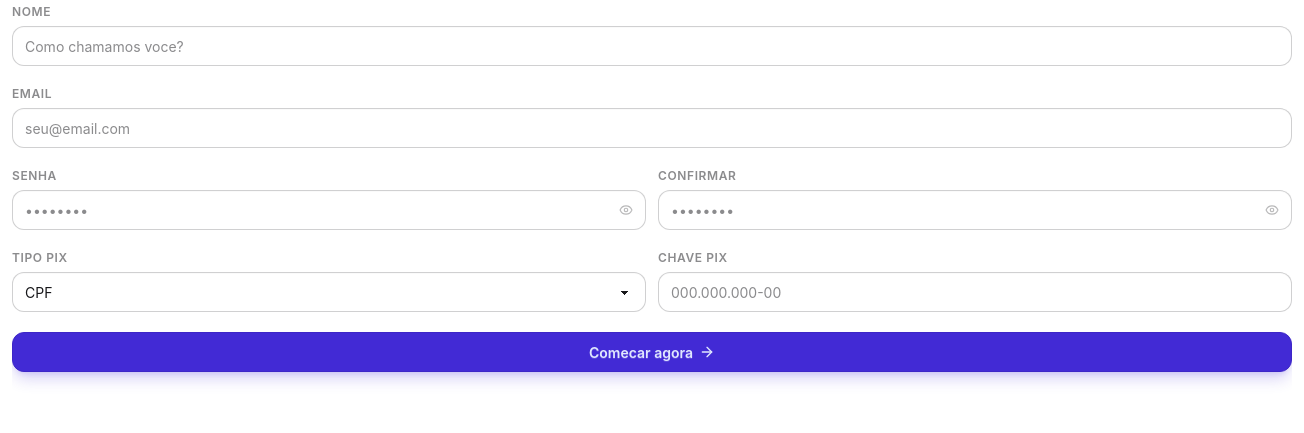
Test case: Register › Mock de registro › deve mostrar erro quando registro retorna falha
Type "João Silva" into the field with placeholder "Como chamamos voce?". click: point(652, 46)
box: [12,26,1292,66]
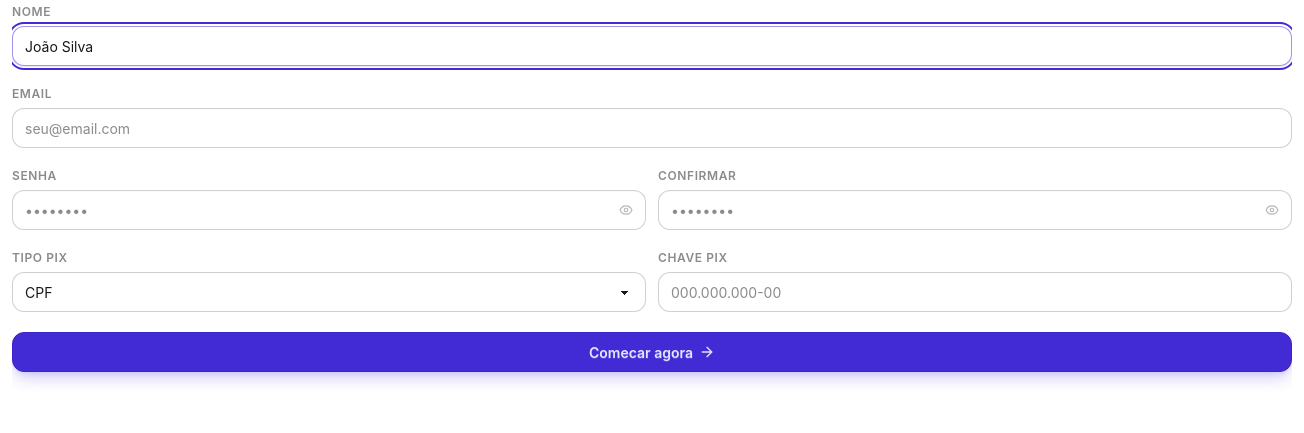
Type "ja-existe@email.com" into the field with placeholder "seu@email.com". click: point(652, 128)
box: [12,108,1292,148]
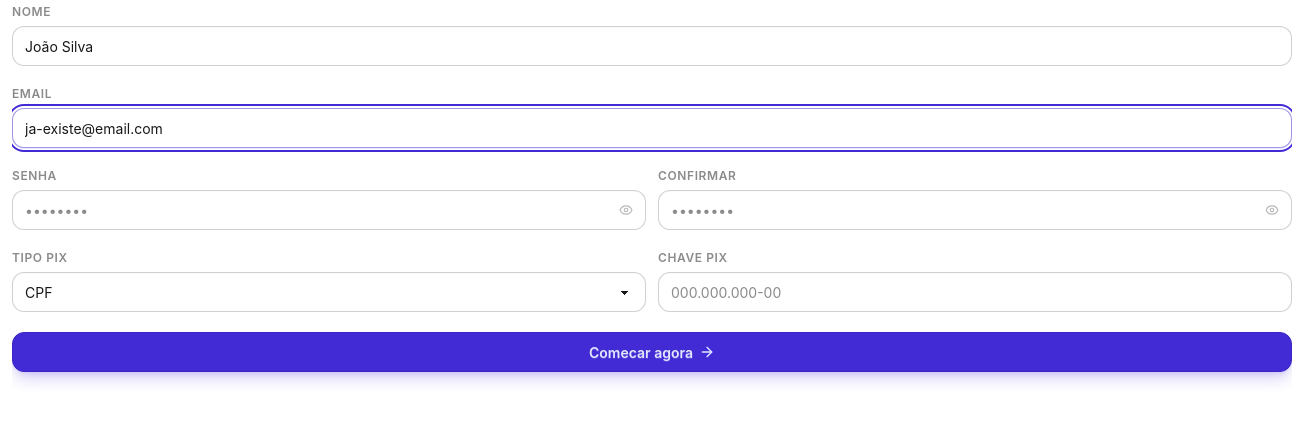
Type "senha1234" into the password field labelled "Senha". click: point(329, 210)
box: [12,190,646,230]
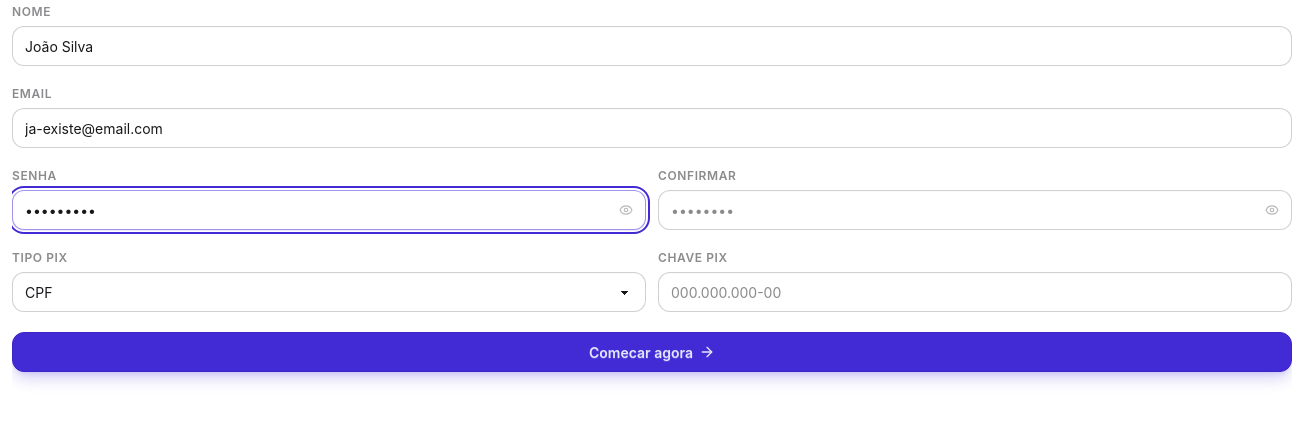
Type "senha1234" into the password field labelled "Confirmar". click: point(975, 210)
box: [658,190,1292,230]
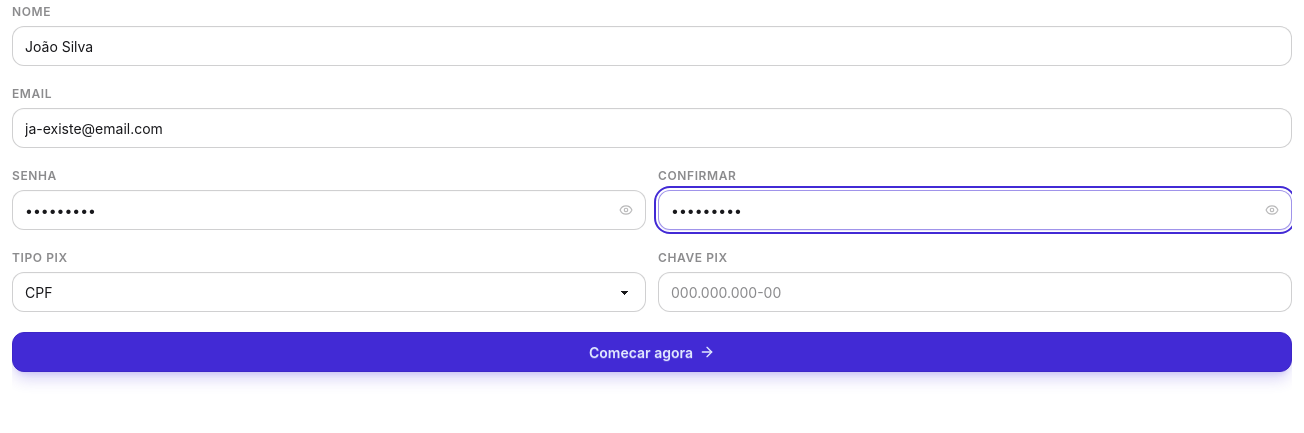
Type "123.456.789-00" into the field with placeholder "000.000.000-00". click: point(975, 292)
box: [658,272,1292,312]
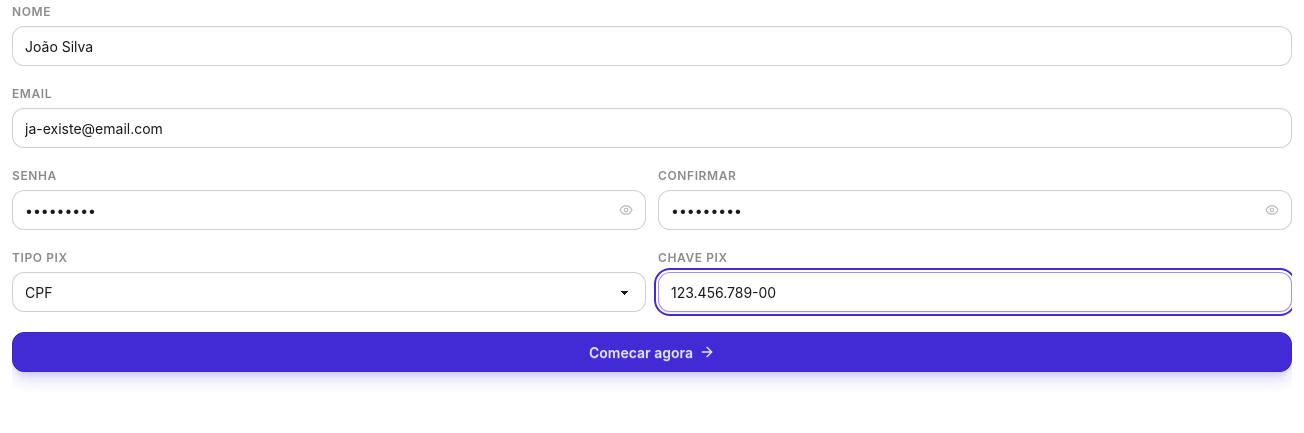
Click the button "Comecar agora". click: point(652, 352)
box: [12,332,1292,372]
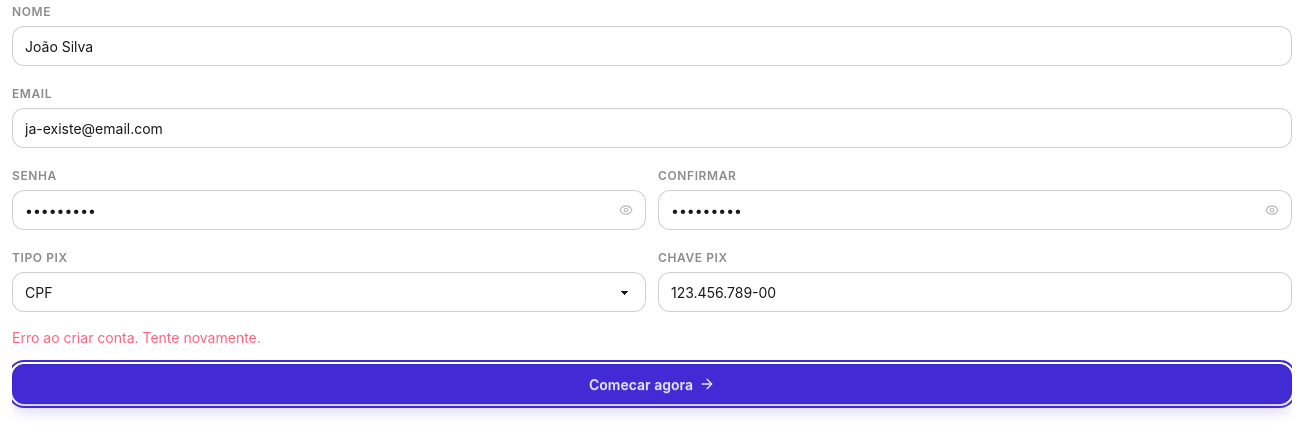
Check: the message reads "Erro ao criar conta. Tente novamente.", box [12,329,261,346]
